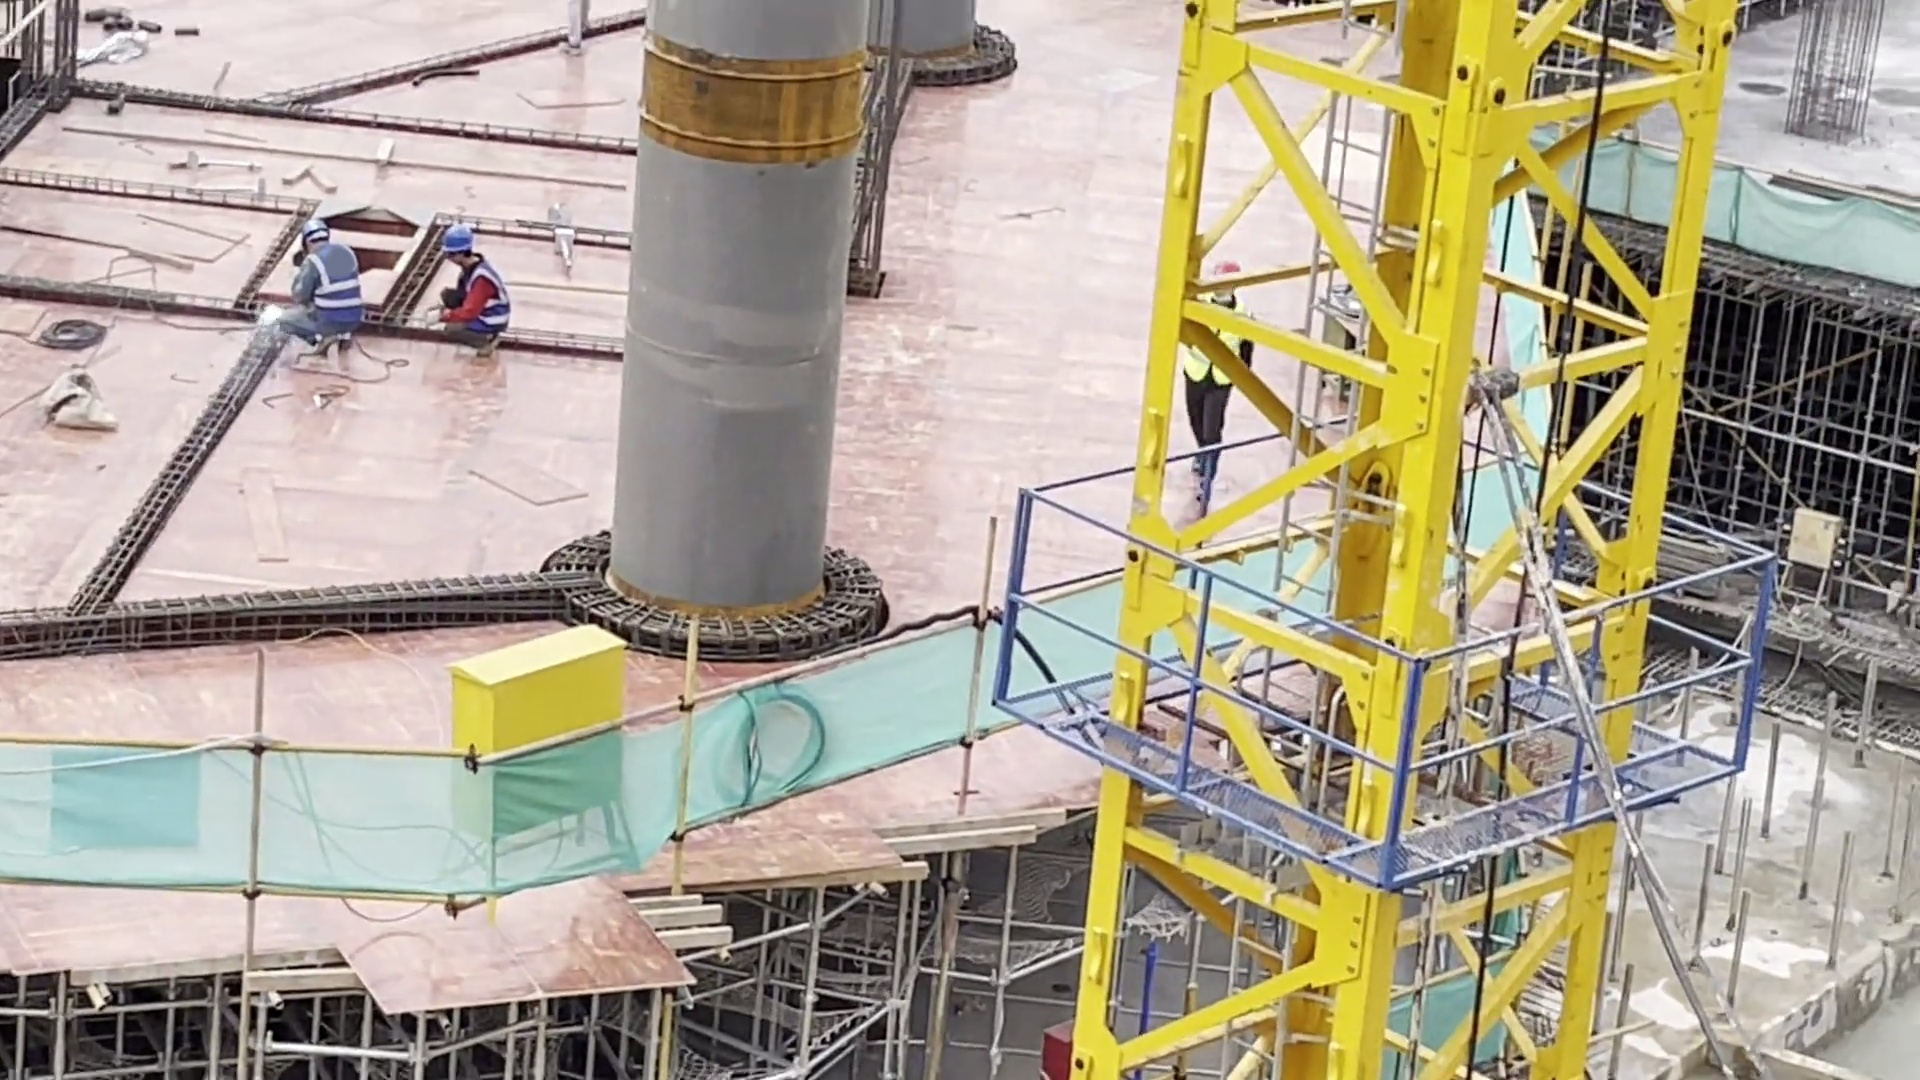ebox: (442, 616, 629, 921), (1779, 505, 1846, 605)
helmet: (441, 222, 473, 256), (302, 215, 329, 243)
person: (1178, 257, 1255, 528), (278, 214, 368, 379), (435, 223, 513, 363)
vest: (293, 242, 367, 339), (460, 261, 510, 338)
